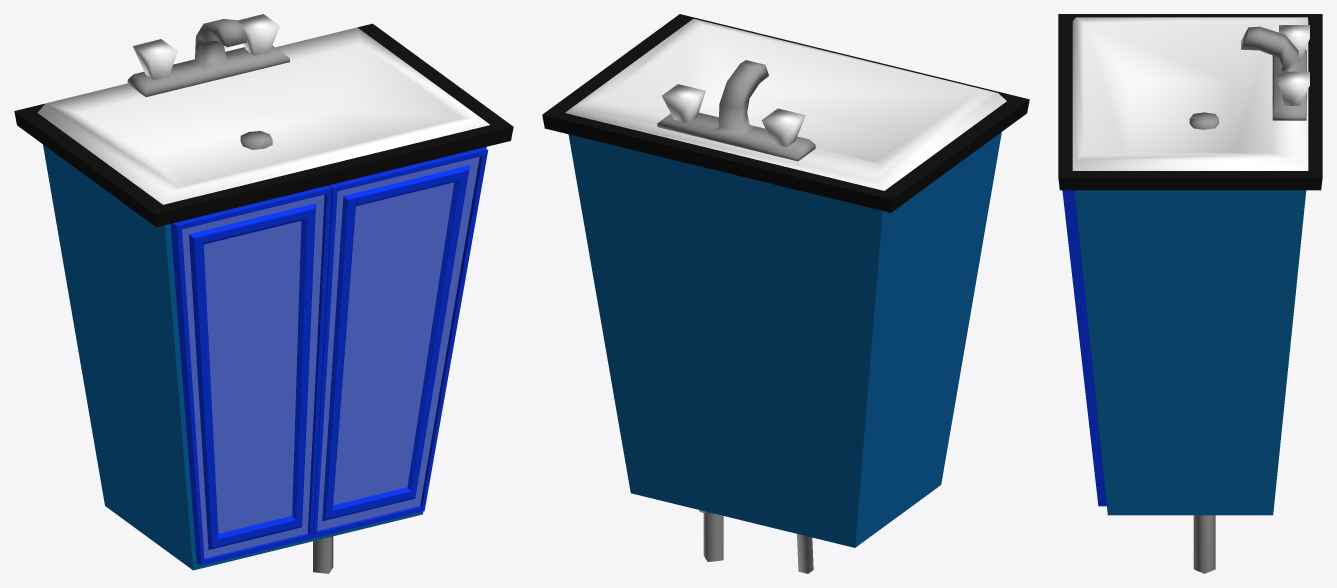
File: House_Bathroom_Sink.FBX
3 renders of one model, left to right at view 1: azimuth 30°, elevation 25°; view 2: azimuth 150°, elevation 25°; view 3: azimuth 270°, elevation 25°, orthographic. The views are drawn at different scales.
Parts seen in each view (by area): view 1: Sink Cabinet, House_Bathroom_Sink_doorLeft, House_Bathroom_Sink_doorRight, House_Bathroom_Sink_plumbing; view 2: Sink Cabinet, House_Bathroom_Sink_plumbing; view 3: Sink Cabinet, House_Bathroom_Sink_doorRight, House_Bathroom_Sink_plumbing.
Boxes of the visible parts, x1,y1,x2,y2 form: Sink Cabinet: (14, 14, 513, 570); House_Bathroom_Sink_doorLeft: (170, 185, 331, 565); House_Bathroom_Sink_doorRight: (313, 147, 488, 538); House_Bathroom_Sink_plumbing: (313, 536, 333, 573); Sink Cabinet: (542, 14, 1029, 547); House_Bathroom_Sink_plumbing: (699, 510, 813, 573); Sink Cabinet: (1058, 14, 1322, 515); House_Bathroom_Sink_doorRight: (1062, 190, 1106, 506); House_Bathroom_Sink_plumbing: (1193, 515, 1215, 573).
Bounding box in the file's own units: 115 × 167 × 78.64.
